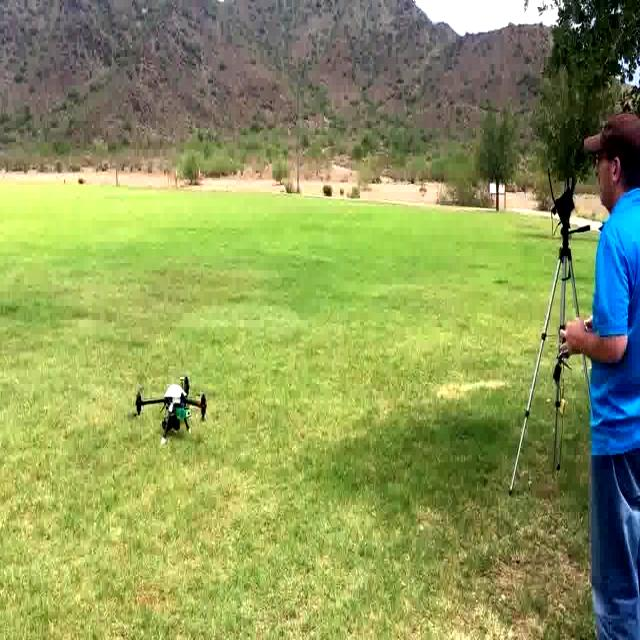drone: (136, 375, 209, 448)
